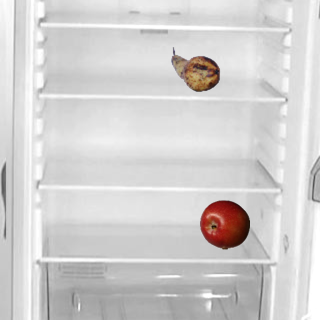Apple Braeburn: (199, 199, 249, 249)
Pear Abate: (170, 44, 220, 94)
